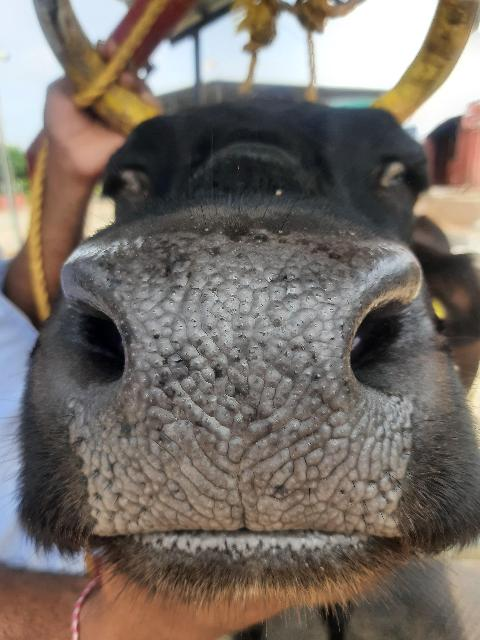Muzzle: (125, 258, 349, 526)
